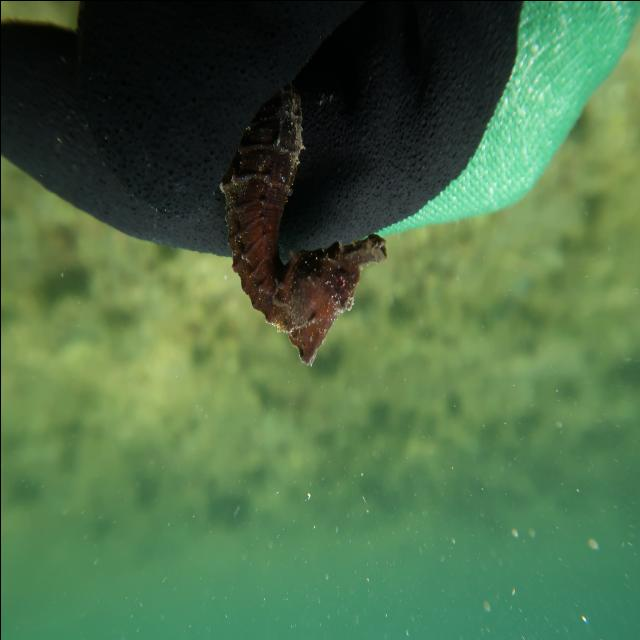Hippo: (276, 228, 388, 368)
